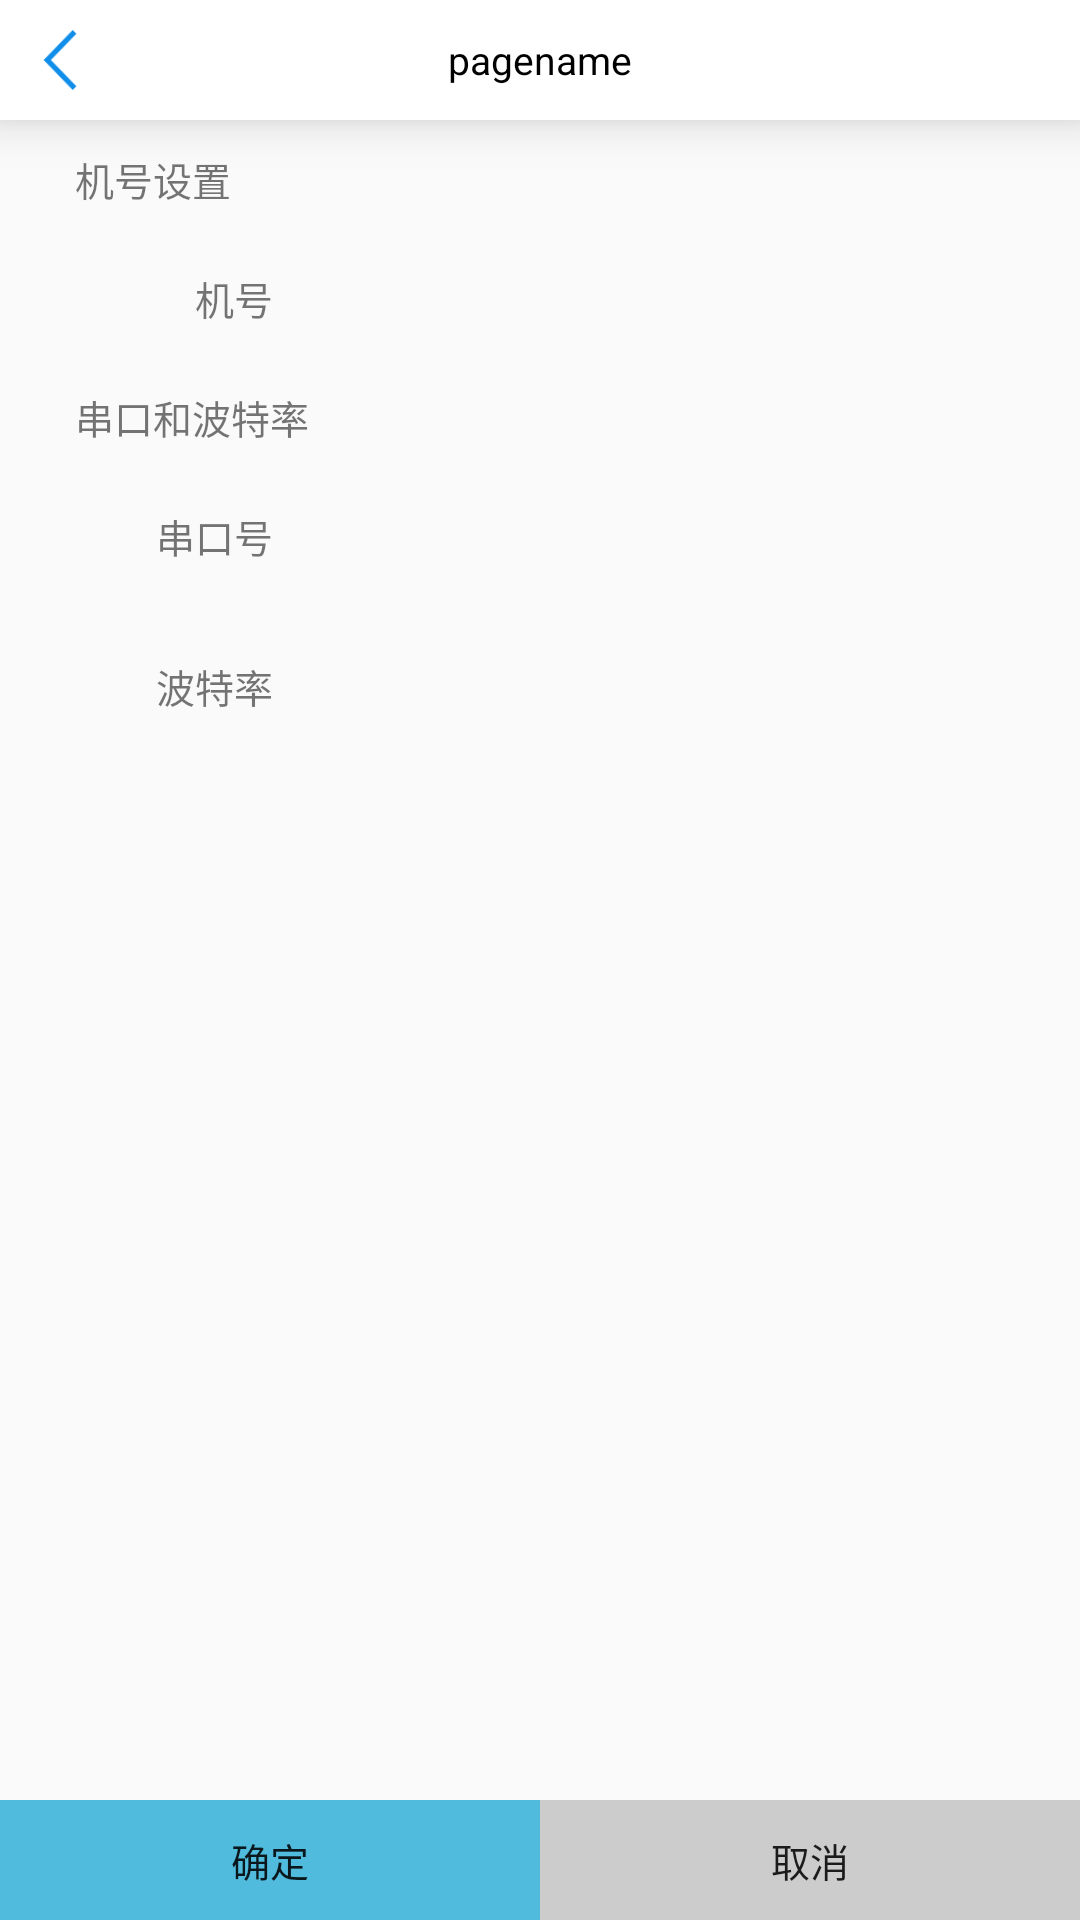

Where icons sit on this 1080 × 1920 app screen, as (x1, y1, x2, y2):
fanhui: (44, 30, 77, 90)
